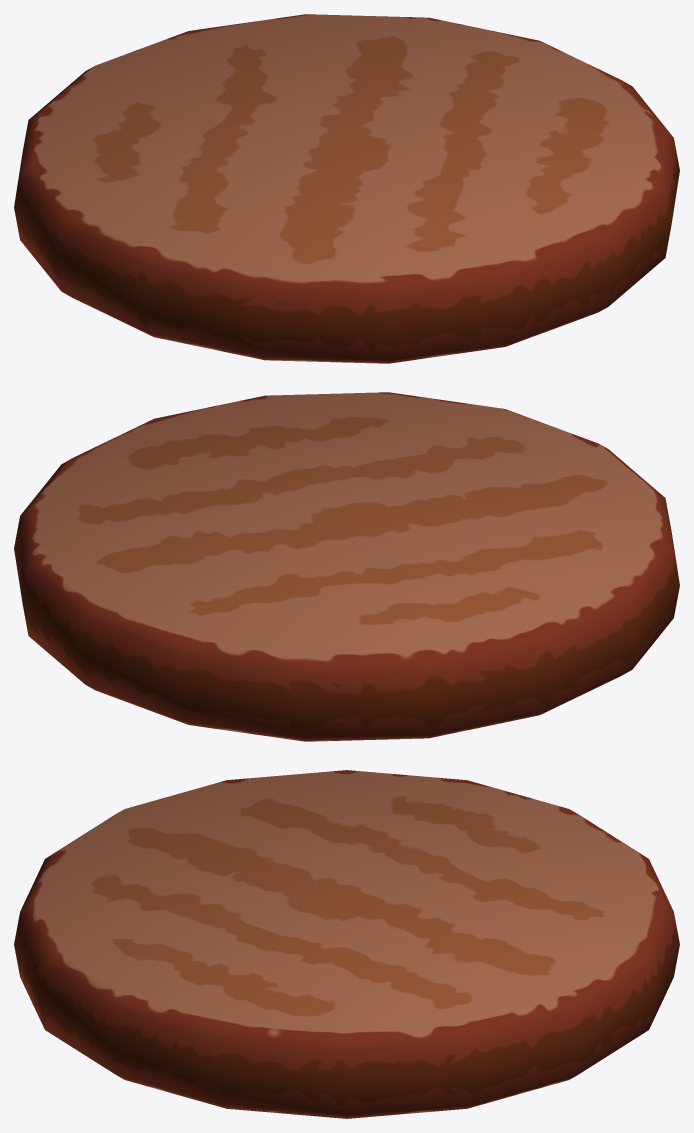
The model's file is Patty.fbx.
3 renders of one model, top to bottom at view 1: azimuth 30°, elevation 25°; view 2: azimuth 150°, elevation 25°; view 3: azimuth 270°, elevation 25°, orthographic.
Visible parts, largest first — view 1: Patty; view 2: Patty; view 3: Patty.
Boxes of the visible parts, x1,y1,x2,y2 form: Patty: (14,14,679,363); Patty: (14,392,679,741); Patty: (14,770,679,1118).
Size of the model in its own units: 202 by 27.84 by 202.
